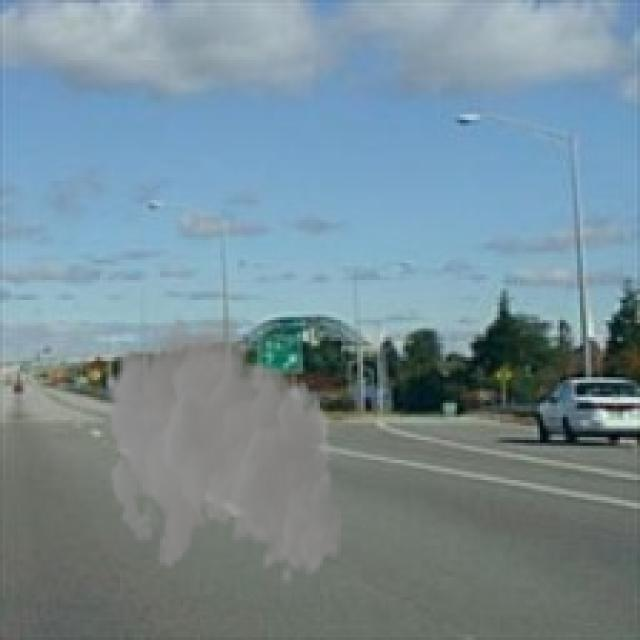Smoke: (103, 306, 343, 586)
